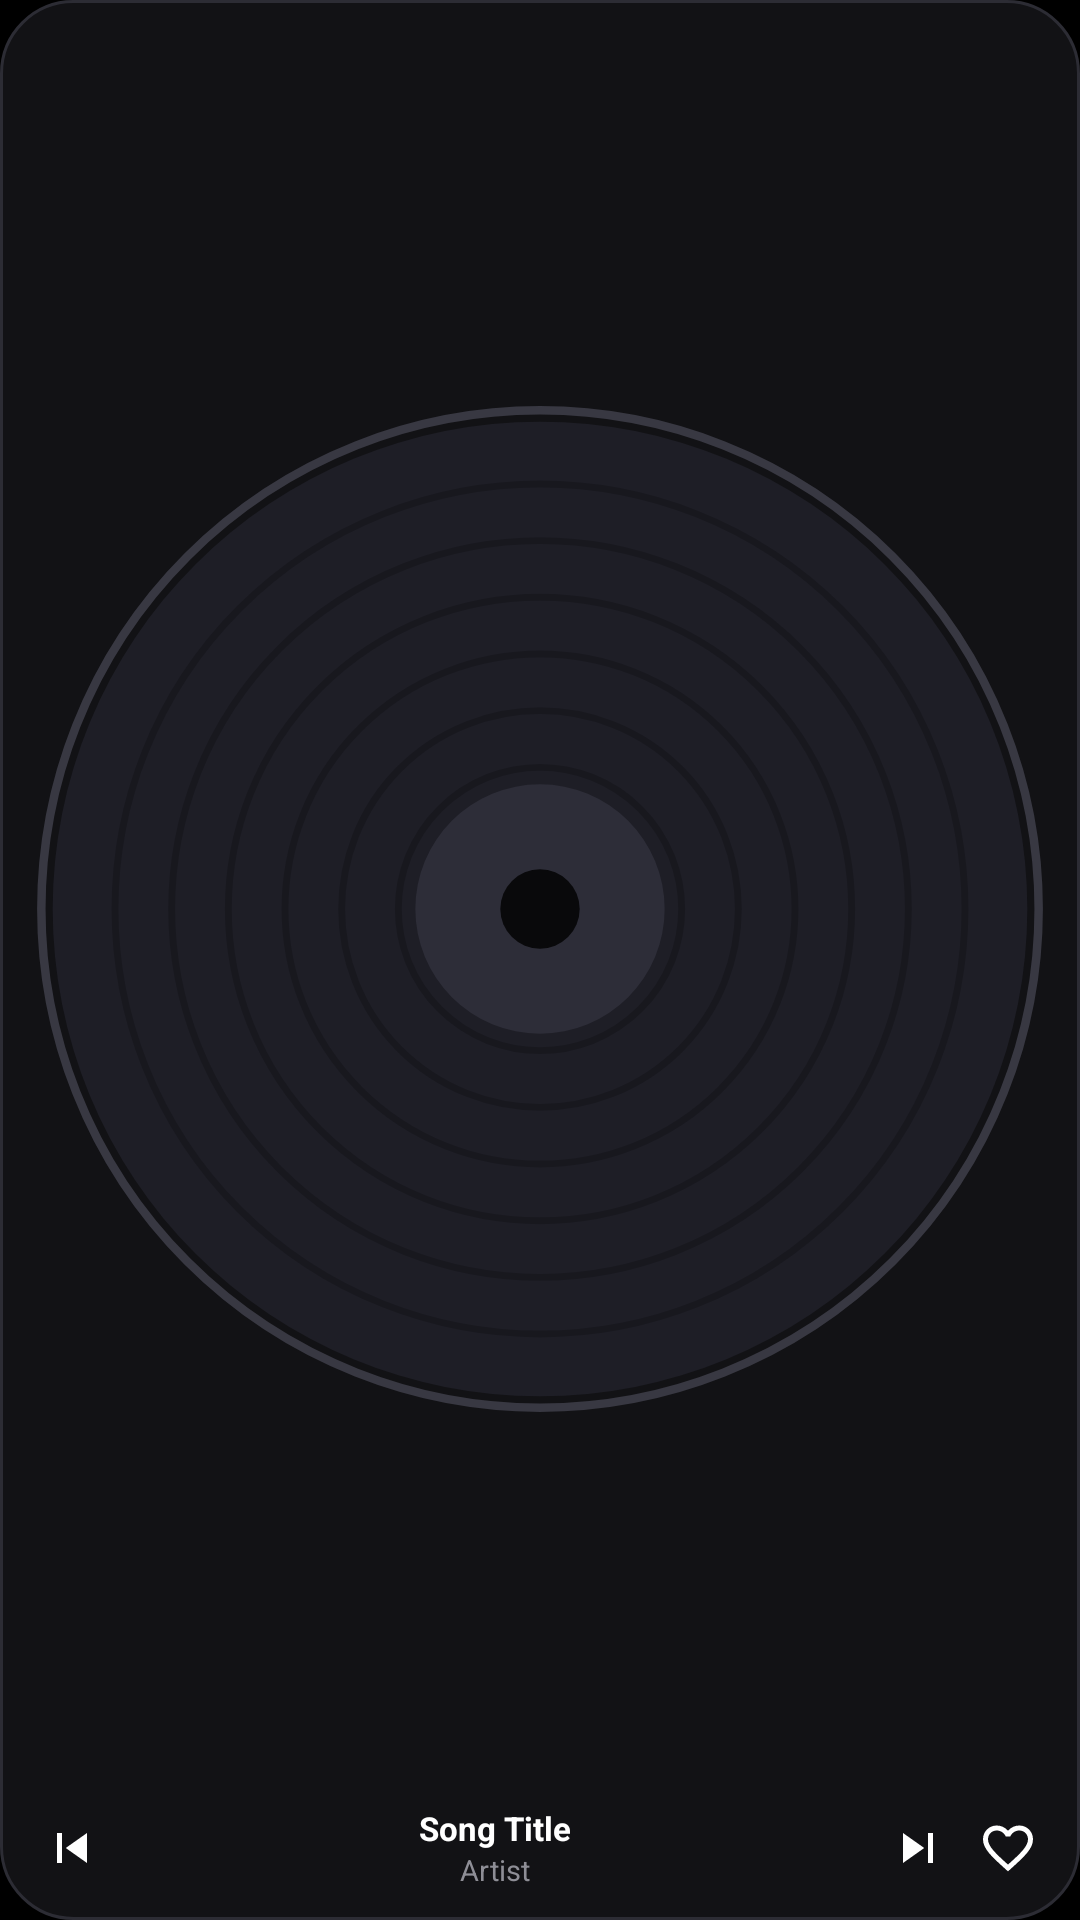

Where icons sit on this 1080w x 1920h app screen, as (x1, y1, x2, y2):
Favorite: (983, 1825, 1033, 1871)
Next: (903, 1833, 933, 1863)
Previous: (57, 1833, 87, 1863)
